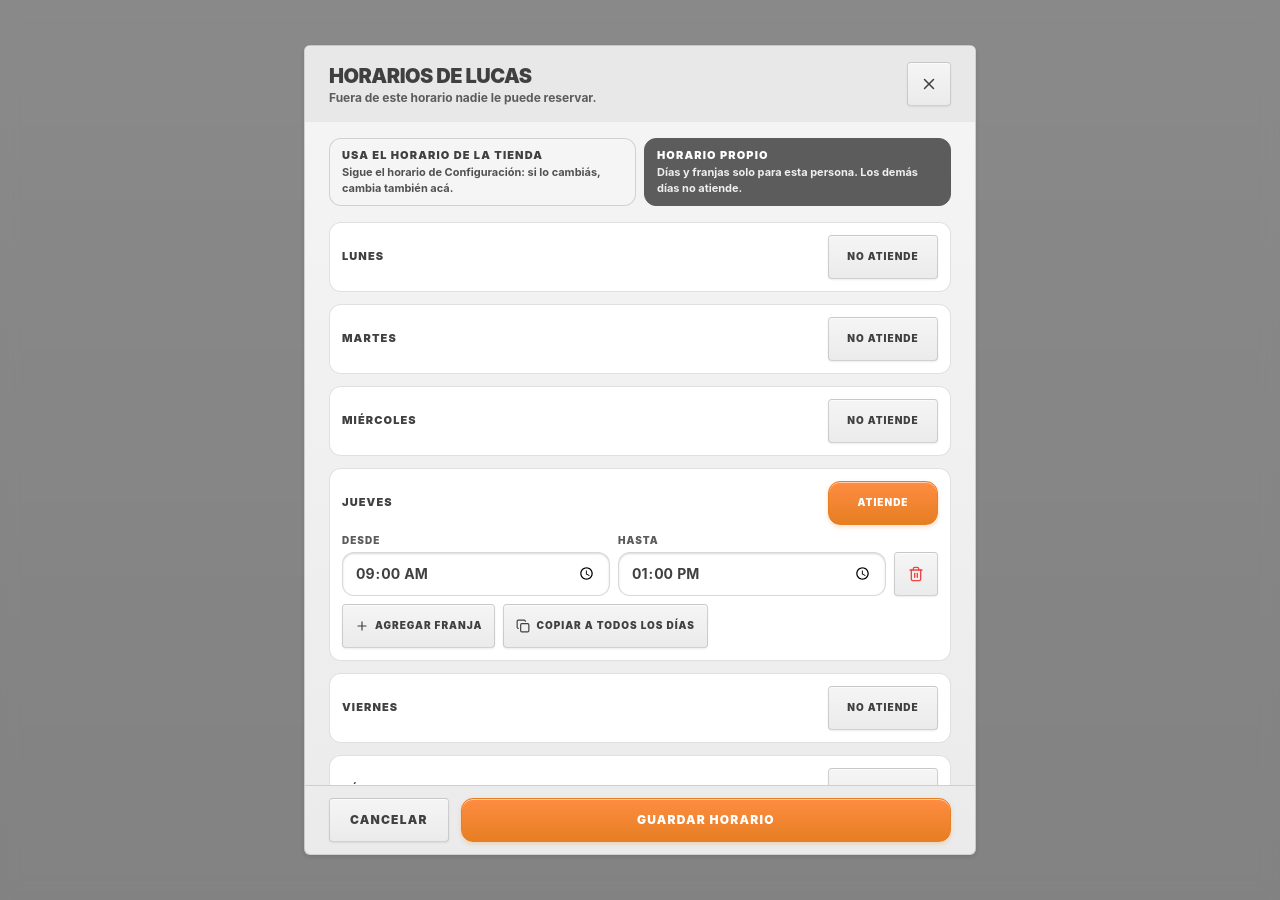
Test: StaffScheduleModal › un horario propio sin ningun dia avisa en vez de volver en silencio a la tienda
Click the button named "quitar franja 1" at coordinates (916, 574), box [894,552,938,596]
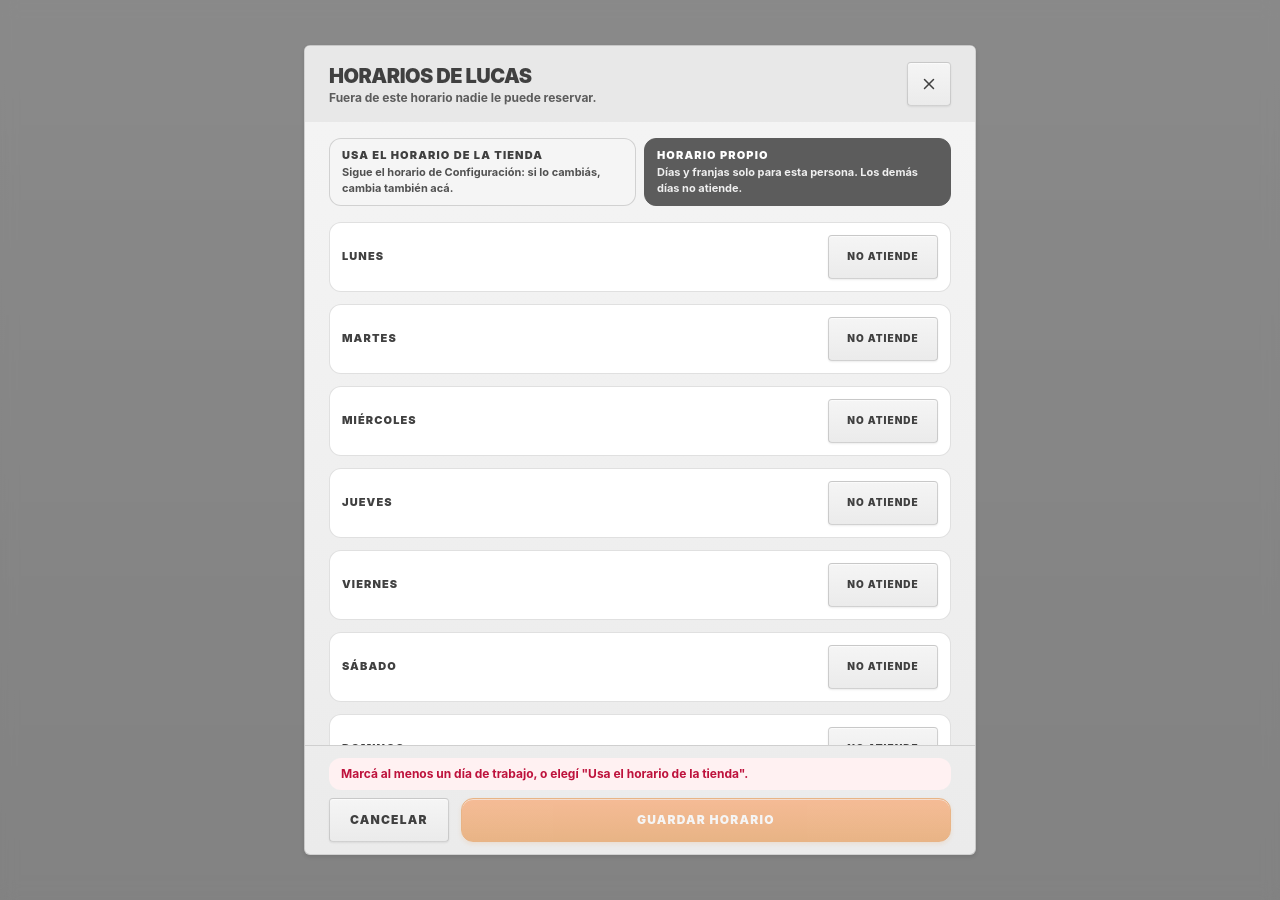
Now the message shows "al menos un día", box [341,766,748,781]
Now the button "Guardar horario" is disabled, box [461,798,951,842]
